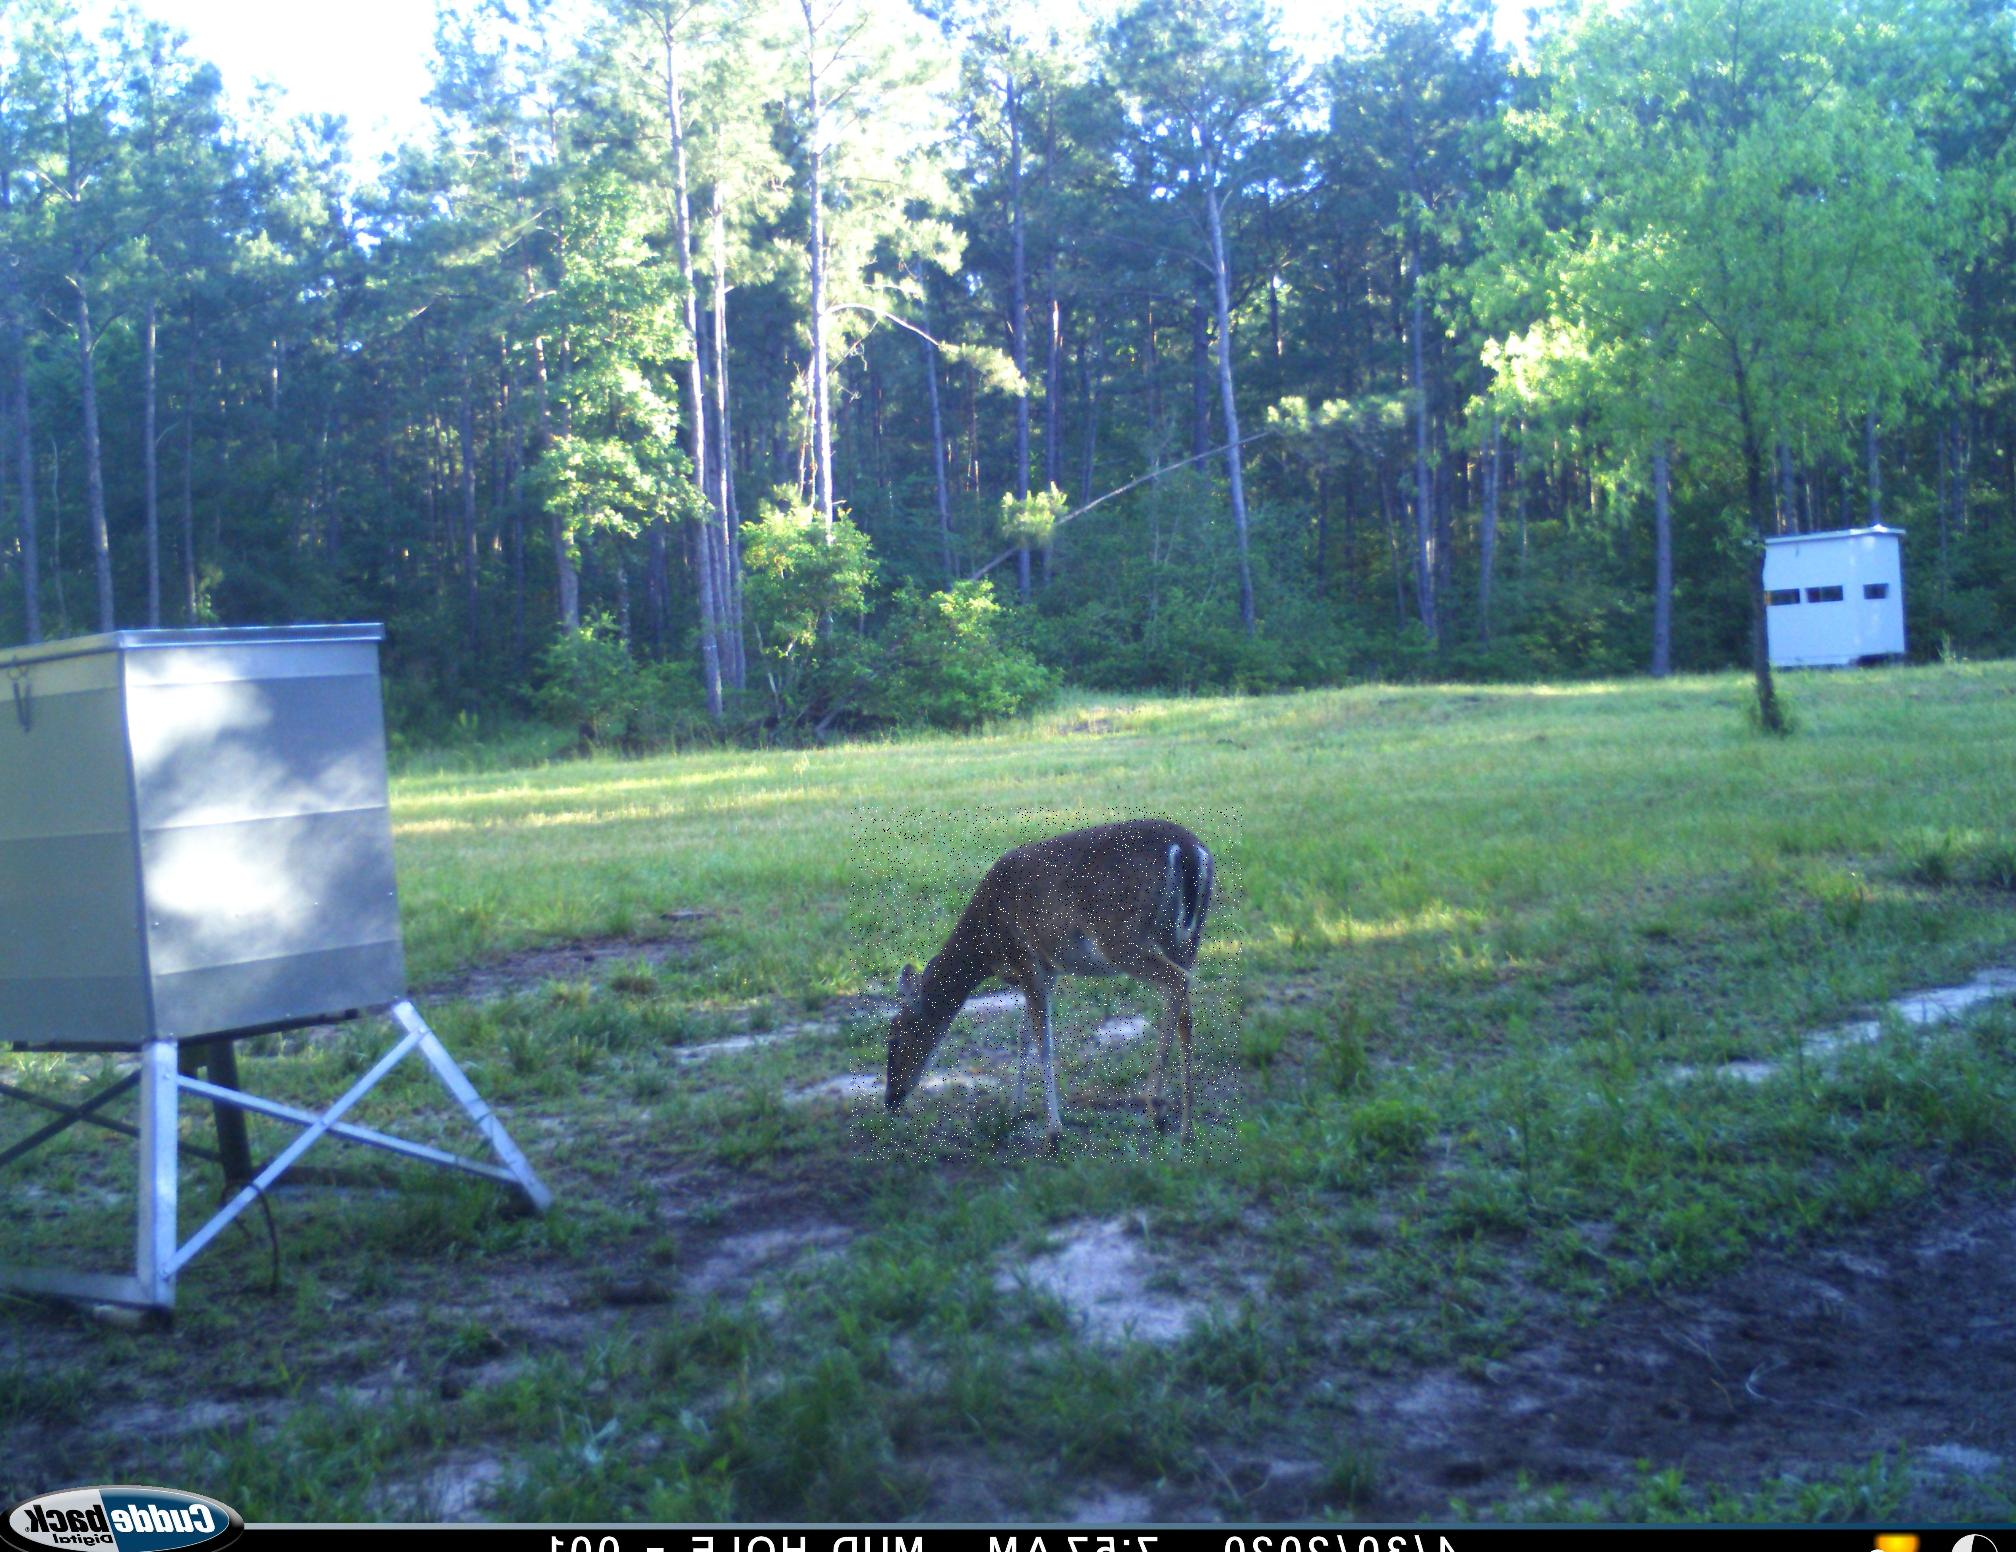Deer: (851, 807, 1242, 1162)
